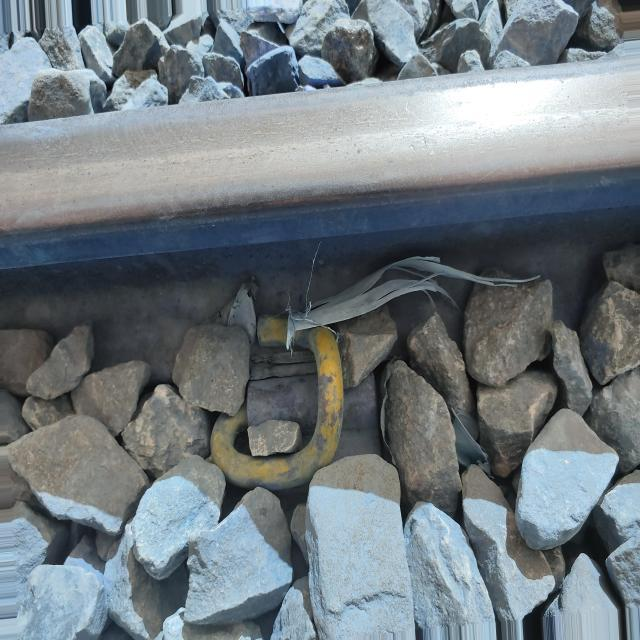Good Fasteners: (211, 316, 380, 494)
